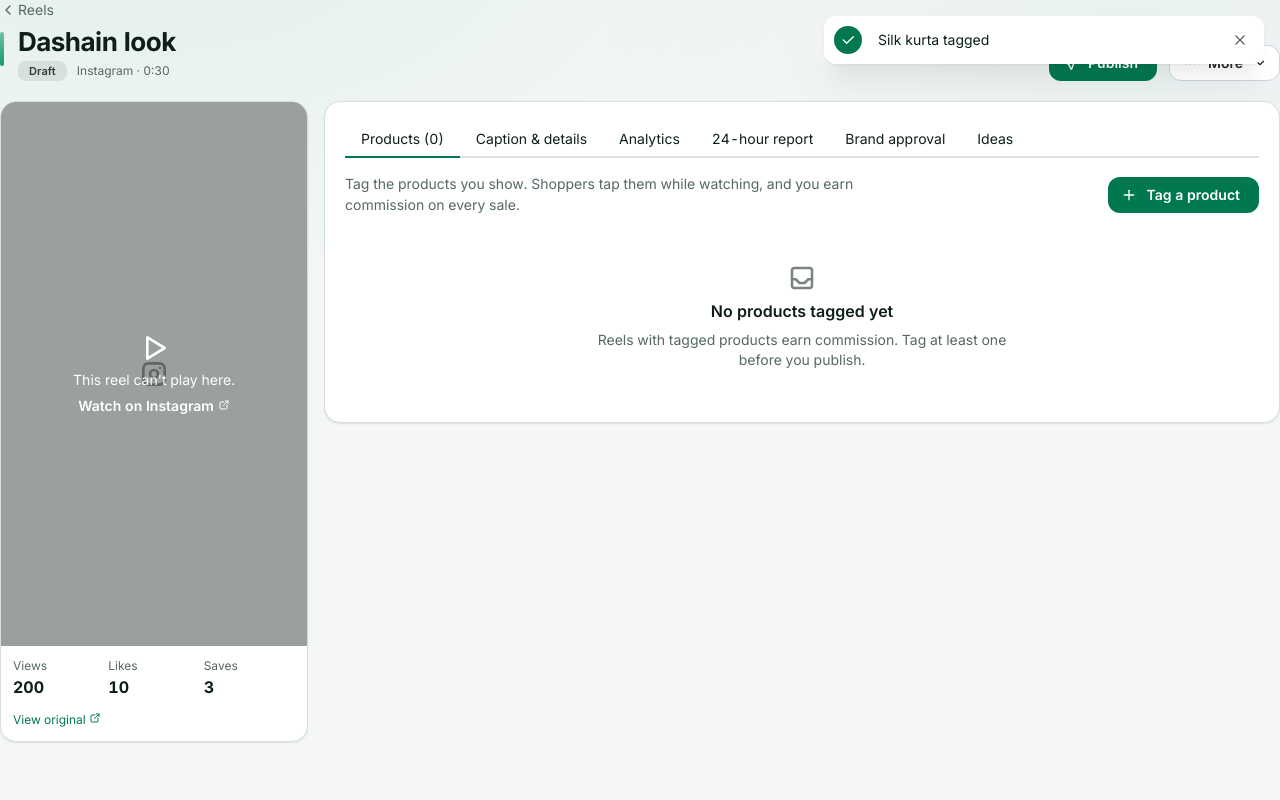
Scenario: tagging products on a reel › explains a refusal for a brand without an active partnership
Click the button "Tag a product" at point(1183, 195), box [1108,177,1259,213]
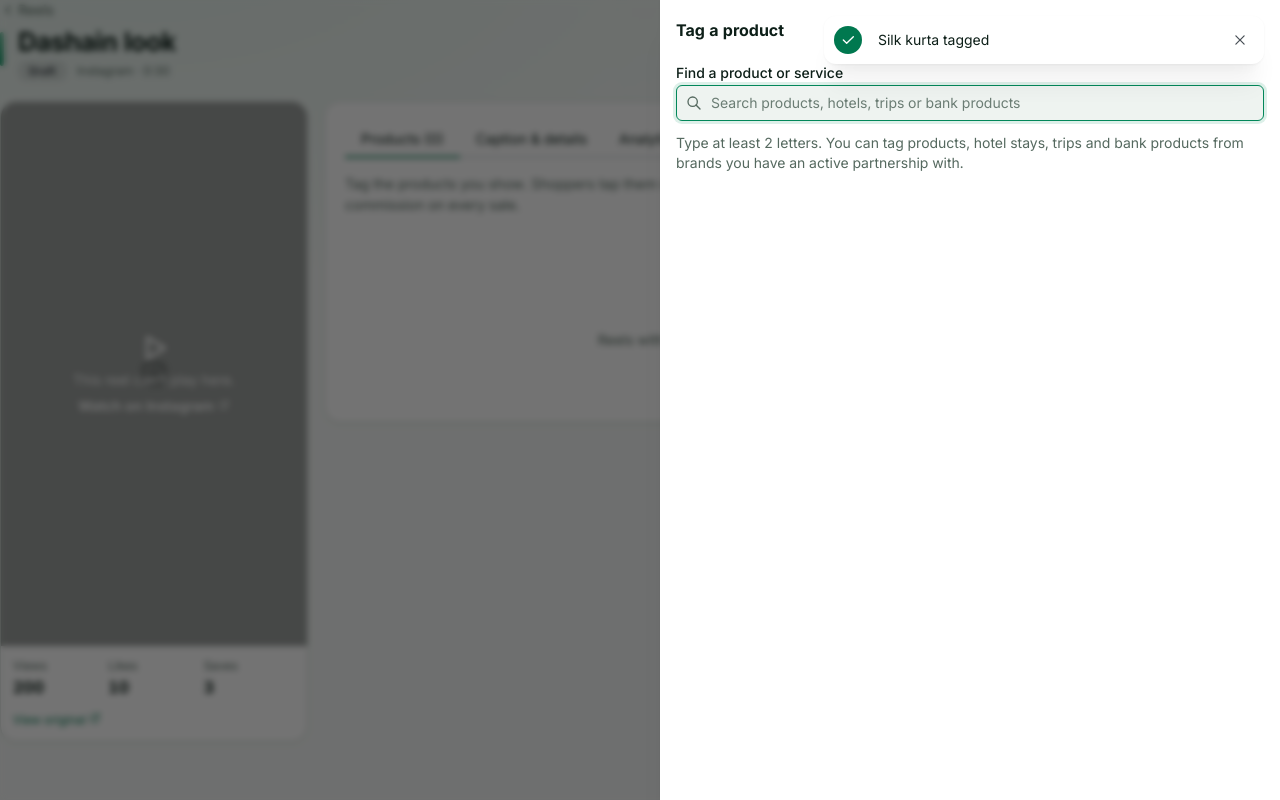
Type "silk" into the field labelled "Find a product or service" at point(970, 103), box [676,85,1264,121]
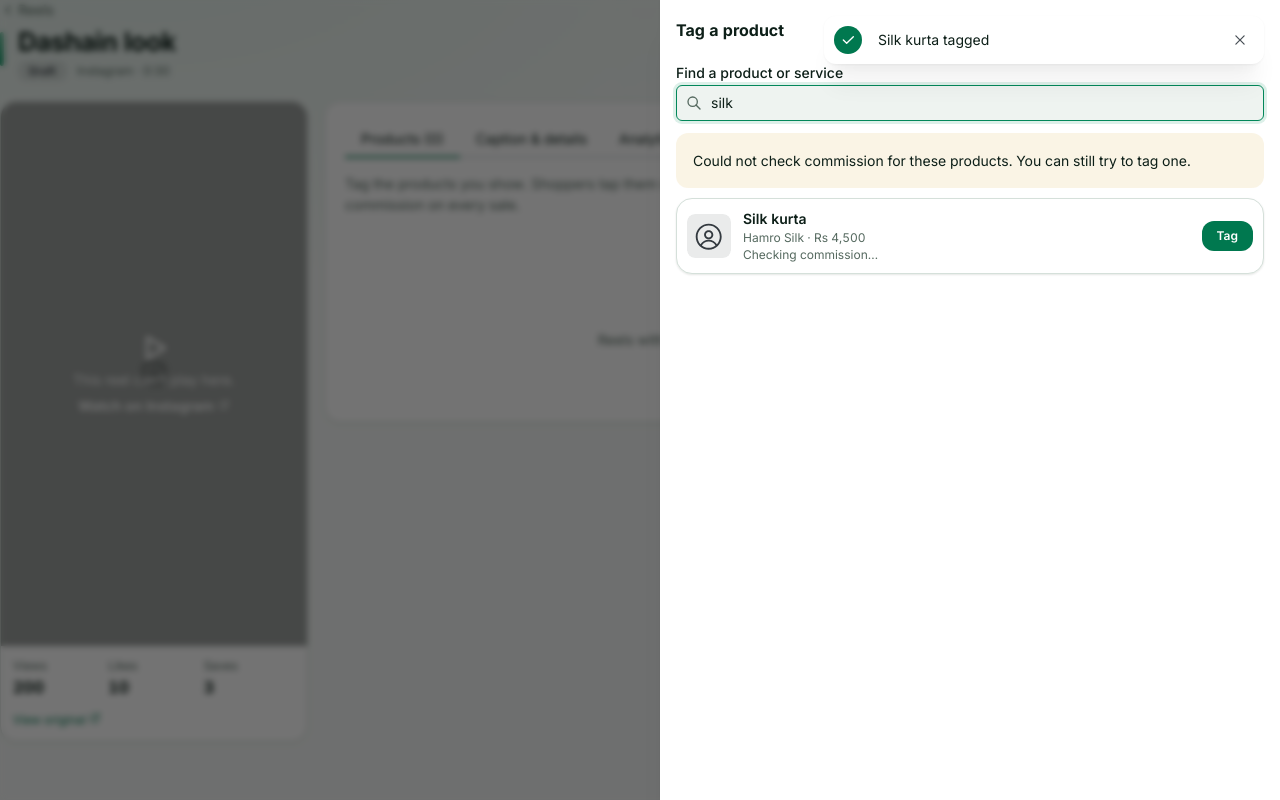
Click the button with aria-label "tag silk kurta" at point(1227, 236), box [1202,221,1253,251]
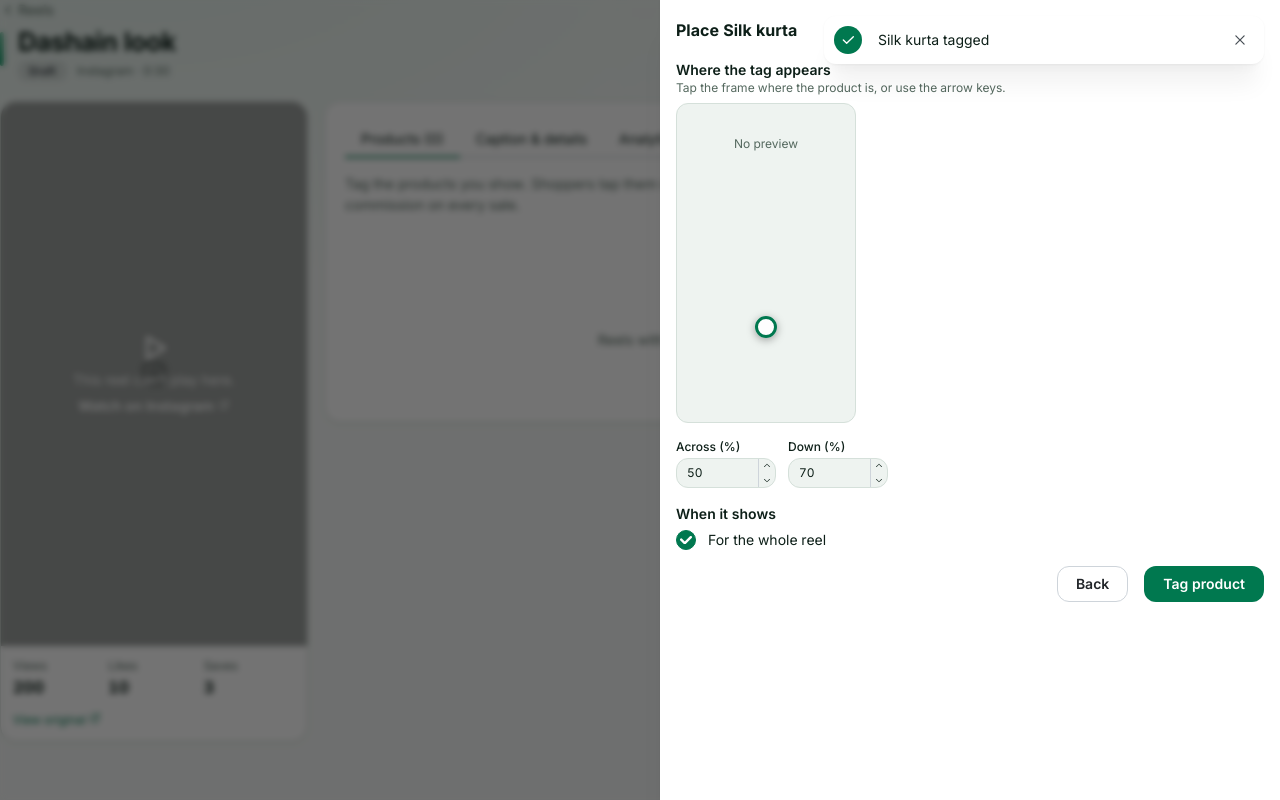
Click the button "Tag product" at point(1204, 584), box [1144,566,1264,602]
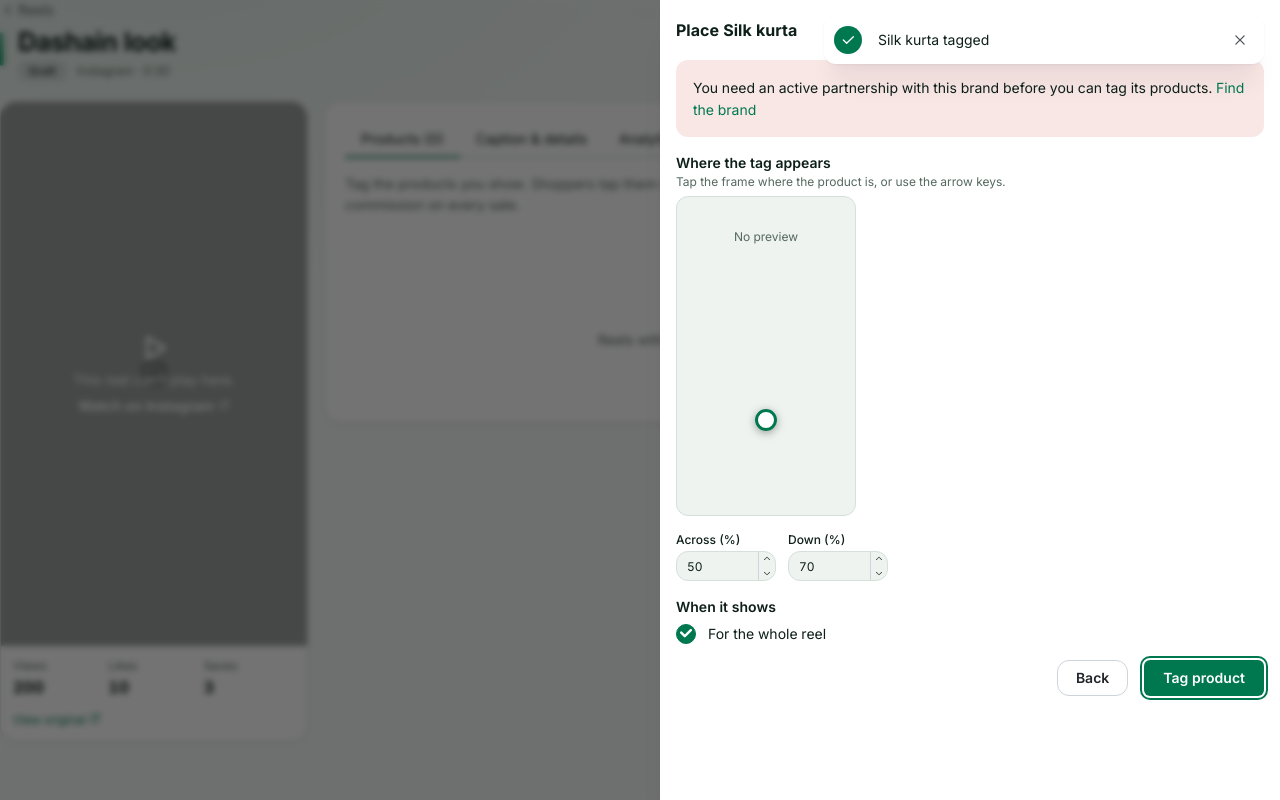
Expected: the message with test id "tag-error" shows "need an active partnership with this brand", [693,79,1212,96]
